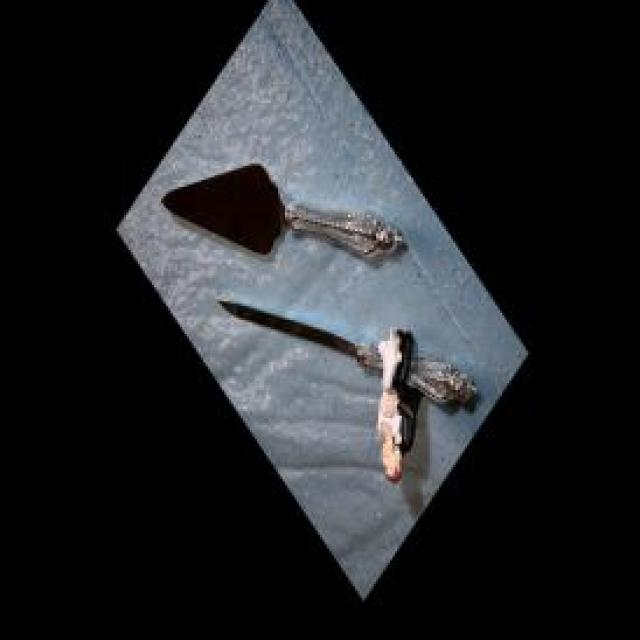knife: (217, 289, 481, 406), (166, 165, 402, 264)
